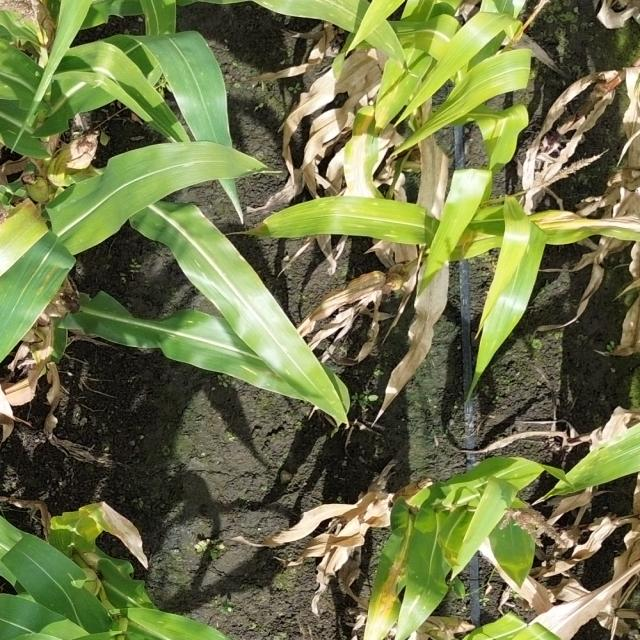gray-leaf-spot: (189, 258, 275, 332), (314, 198, 408, 242), (314, 0, 396, 49), (220, 348, 298, 394), (562, 454, 623, 491)
northern-leaf-blight: (366, 536, 411, 624), (519, 212, 635, 242), (348, 118, 383, 193)
